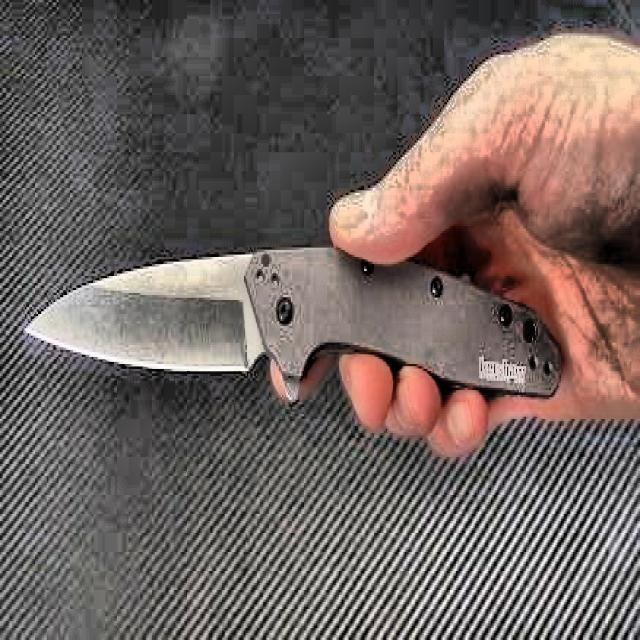knife: (27, 250, 567, 402)
